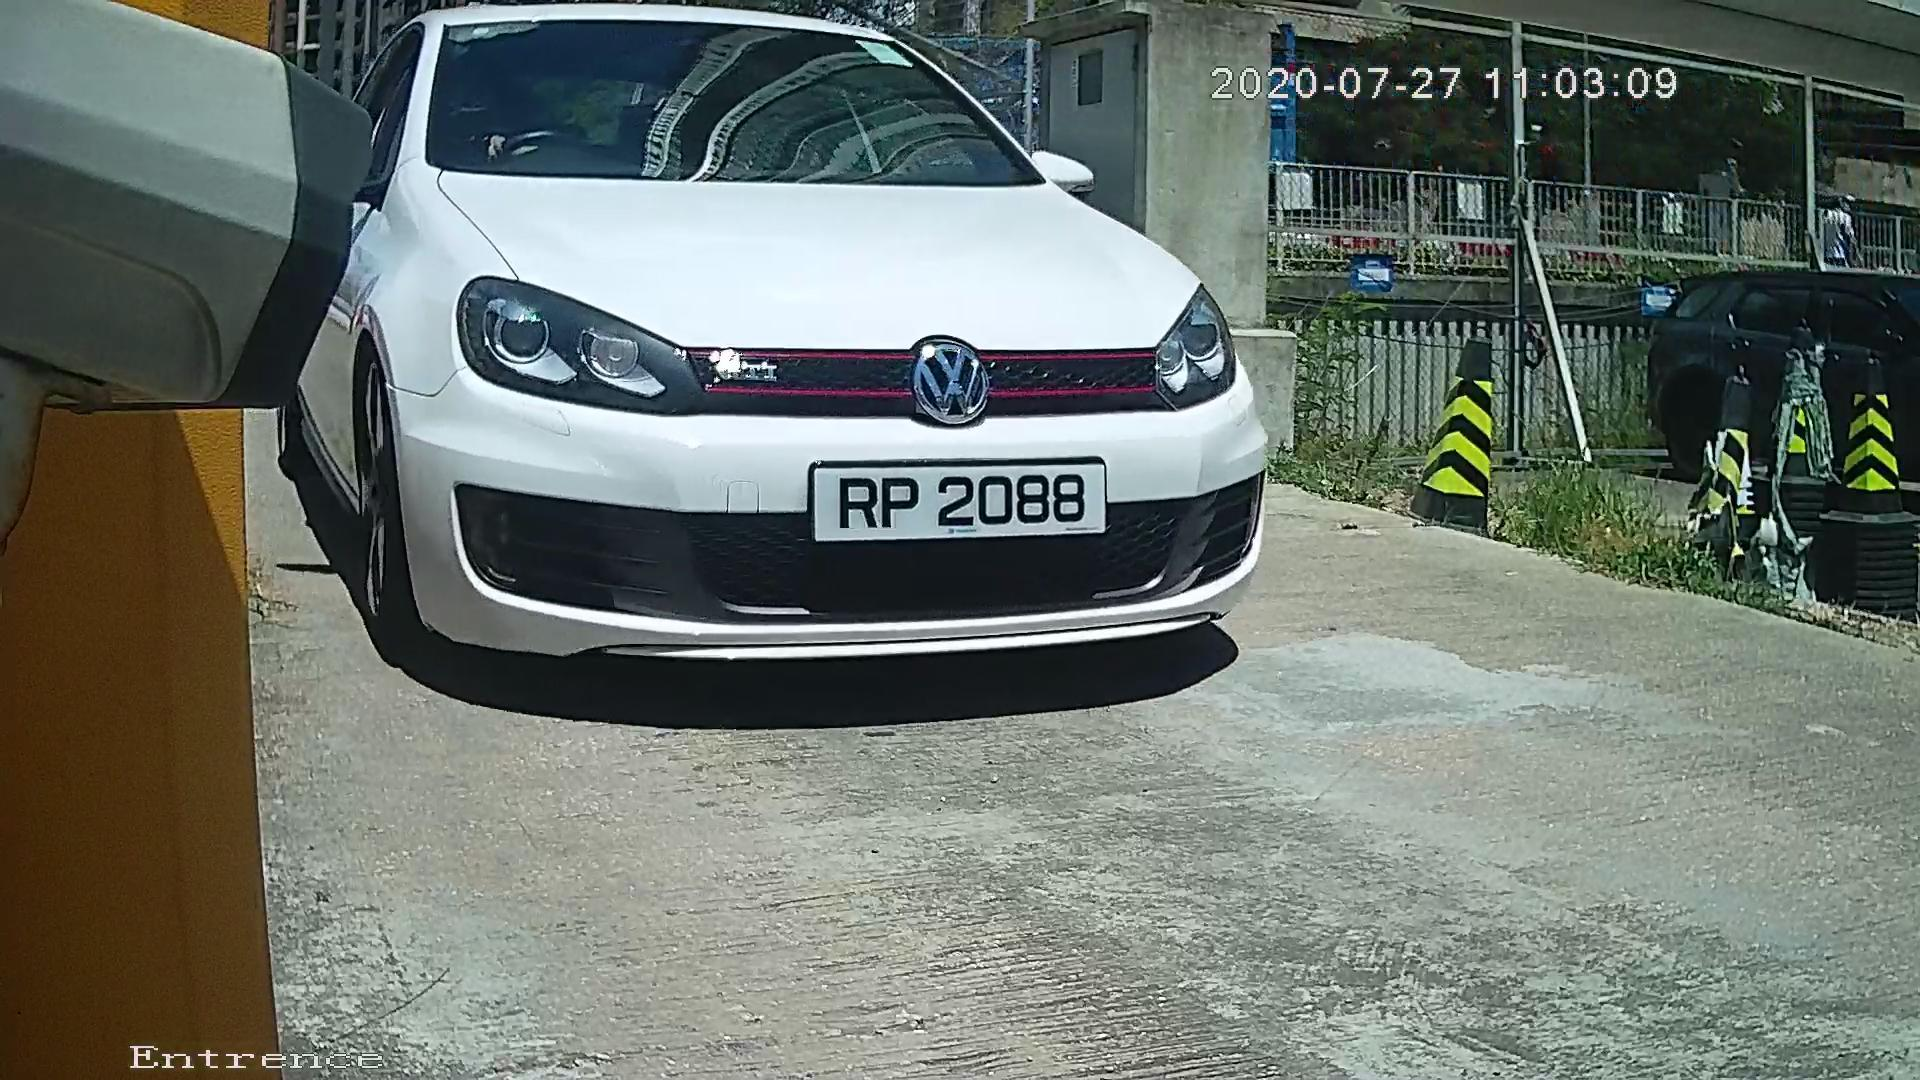License Plate: (772, 449, 1123, 545)
